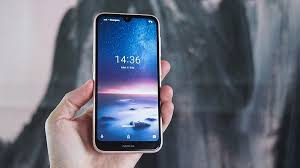nokia: (90, 10, 165, 156)
